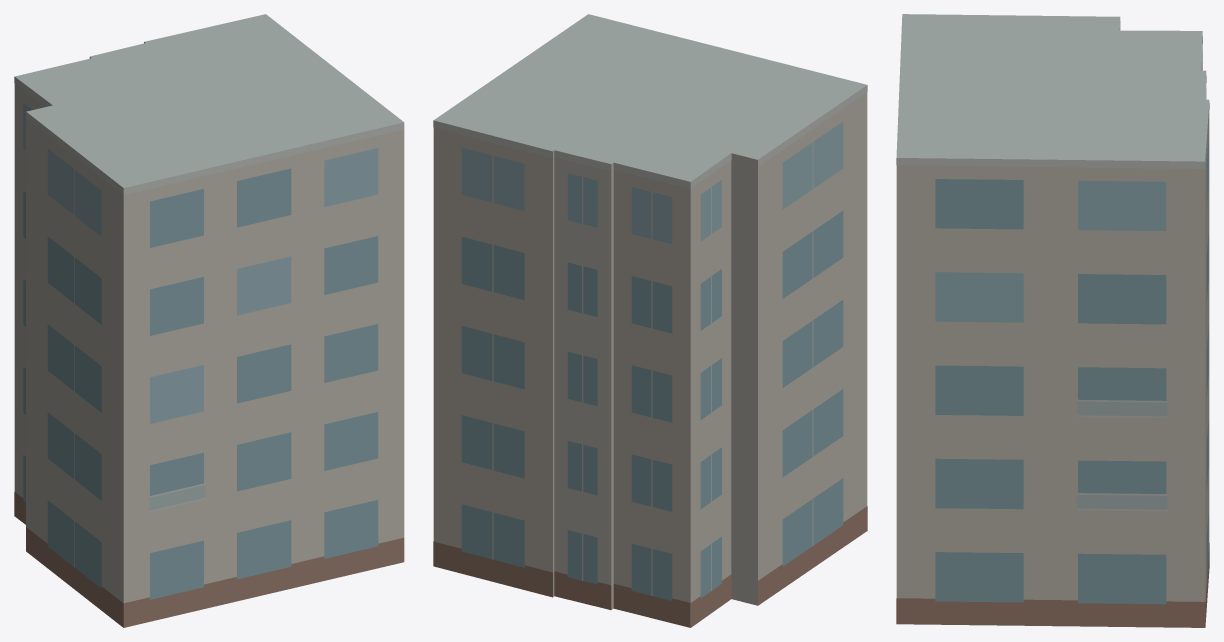
The model's file is survey-upis-33021483.glb.
3 views of the same model, side by side, from view 1: azimuth 30°, elevation 25°; view 2: azimuth 150°, elevation 25°; view 3: azimuth 270°, elevation 25° (orthographic). The views are drawn at different scales.
Parts seen in each view (by area): view 1: survey-upis-33021483.tmp; view 2: survey-upis-33021483.tmp; view 3: survey-upis-33021483.tmp.
Part boxes in pixels (<box>): survey-upis-33021483.tmp: <box>14,14,404,627</box>; survey-upis-33021483.tmp: <box>433,14,867,627</box>; survey-upis-33021483.tmp: <box>896,14,1209,627</box>.
Bounding box in the file's own units: 10.46 × 15.4 × 9.38.
